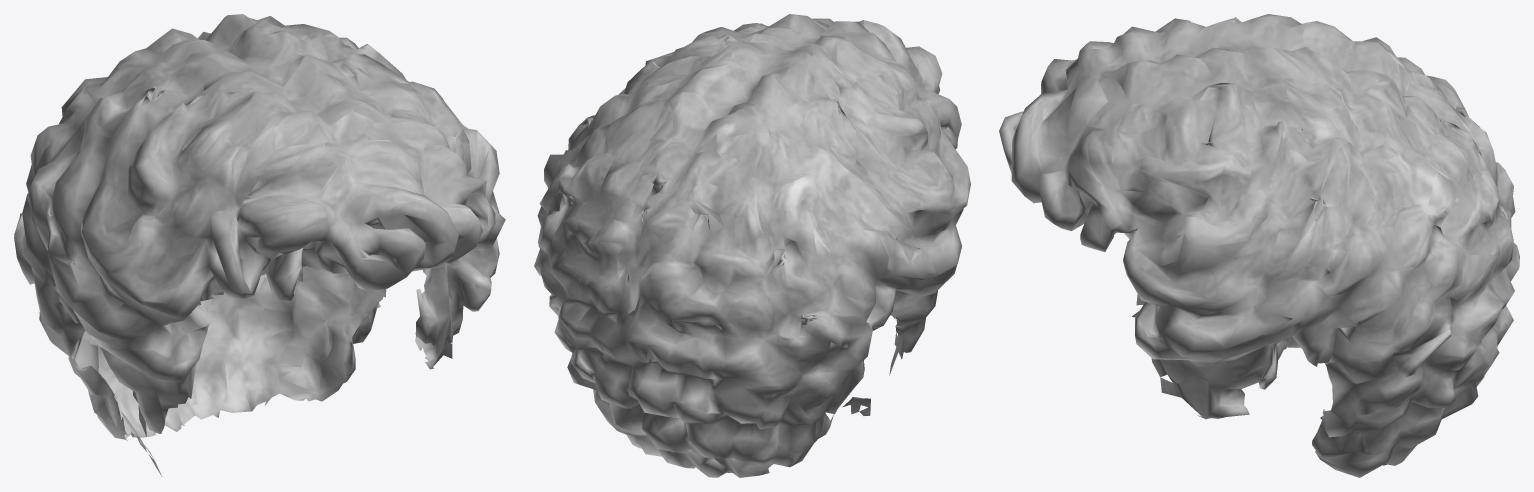
The model's file is hair_curly.glb.
3 views of the same model, side by side, from view 1: azimuth 30°, elevation 25°; view 2: azimuth 150°, elevation 25°; view 3: azimuth 270°, elevation 25° (orthographic). The views are drawn at different scales.
Visible parts, largest first — view 1: Hair; view 2: Hair; view 3: Hair.
Boxes of the visible parts, x1=… form: Hair: x1=14, y1=14, x2=505, y2=476; Hair: x1=534, y1=14, x2=970, y2=477; Hair: x1=999, y1=14, x2=1519, y2=477.
Size of the model in its own units: 1.06 by 1.08 by 1.24.
Materials: 1 (1 with a texture image).
